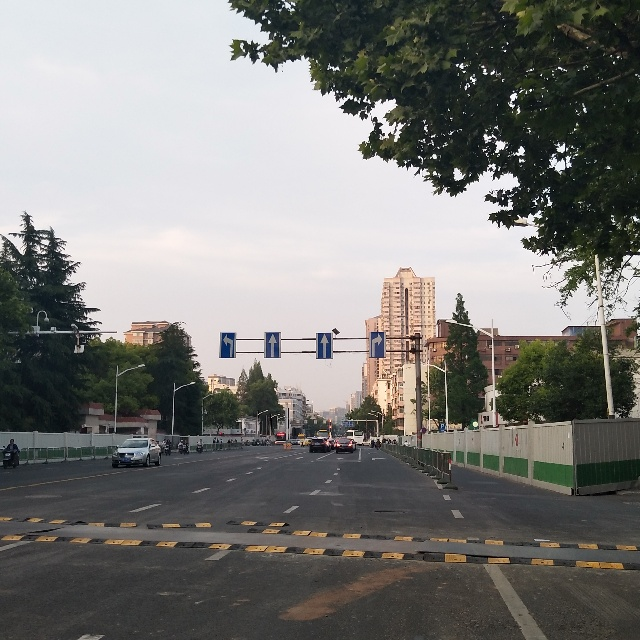left: (221, 333, 235, 357)
right: (371, 331, 384, 358)
straight: (263, 331, 280, 358), (318, 333, 332, 357)
